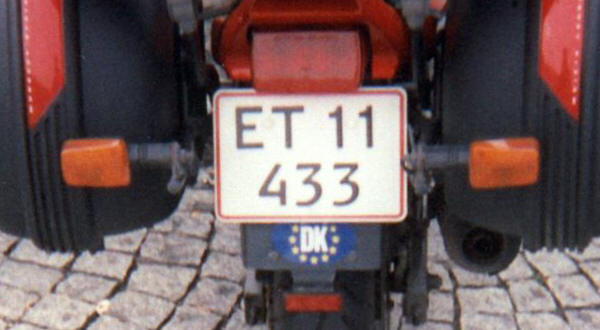license_plate: (213, 89, 406, 222)
